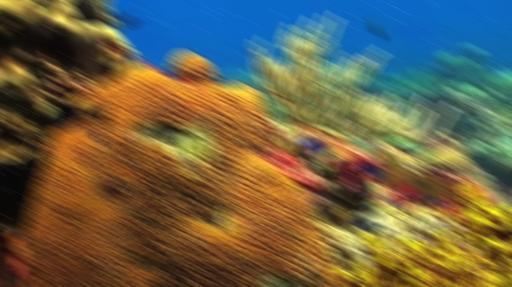Fish: (42, 107, 87, 130), (299, 136, 328, 151), (314, 192, 333, 209), (360, 163, 383, 176), (384, 196, 403, 210), (353, 220, 382, 229), (112, 15, 137, 25), (370, 19, 383, 37), (383, 196, 398, 204), (367, 207, 380, 215), (432, 197, 445, 205), (220, 76, 231, 84)
